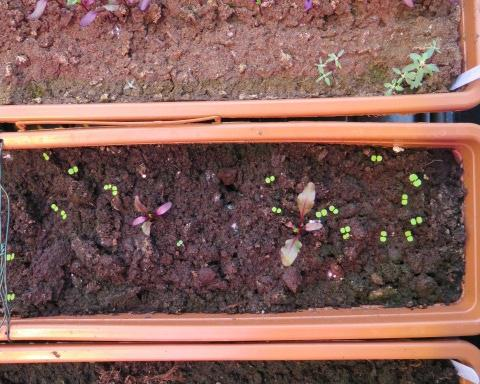crop: (126, 192, 172, 237)
weed: (405, 170, 422, 188), (406, 214, 423, 225), (397, 191, 409, 206), (402, 228, 413, 242), (378, 228, 388, 243), (313, 207, 328, 217), (66, 163, 79, 174), (326, 203, 338, 214), (39, 149, 50, 161), (262, 172, 275, 182), (367, 153, 383, 161), (267, 204, 281, 213), (47, 201, 58, 211), (58, 207, 67, 219)
